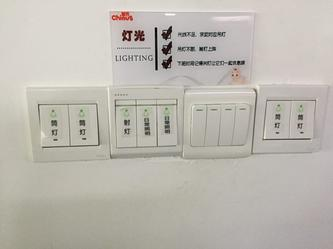switch: (67, 102, 100, 149), (37, 101, 69, 149), (156, 98, 178, 147), (136, 99, 158, 147), (290, 100, 315, 141), (264, 99, 289, 139), (115, 99, 135, 147), (206, 103, 220, 147), (234, 104, 249, 145), (192, 103, 205, 146), (222, 103, 233, 148)
